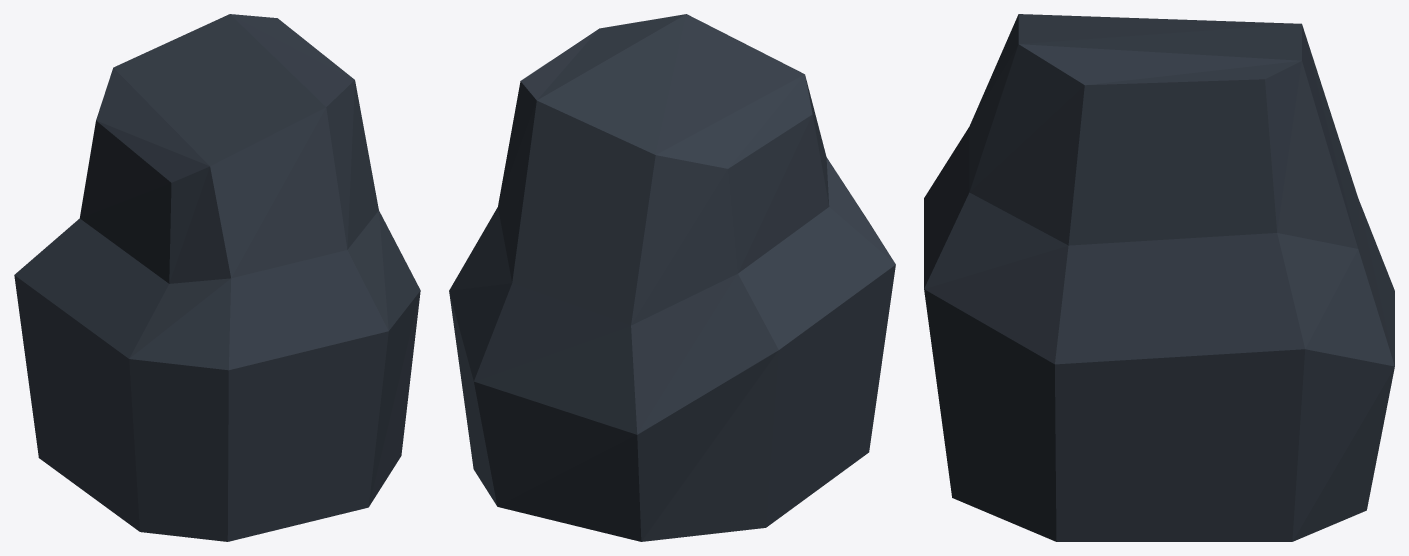
The model's file is TB_Env_Rock2_A.FBX.
The picture shows the model from 3 angles, left to right: view 1: azimuth 30°, elevation 25°; view 2: azimuth 150°, elevation 25°; view 3: azimuth 270°, elevation 25°; orthographic projection. The views are drawn at different scales.
Visible parts, largest first — view 1: TB_Env_Rock2_A; view 2: TB_Env_Rock2_A; view 3: TB_Env_Rock2_A.
Part boxes in pixels (bbox=[...]): TB_Env_Rock2_A: bbox=[14, 14, 420, 541]; TB_Env_Rock2_A: bbox=[449, 14, 895, 541]; TB_Env_Rock2_A: bbox=[924, 14, 1394, 541].
Bounding box in the file's own units: 1.81 × 2.12 × 2.03.
